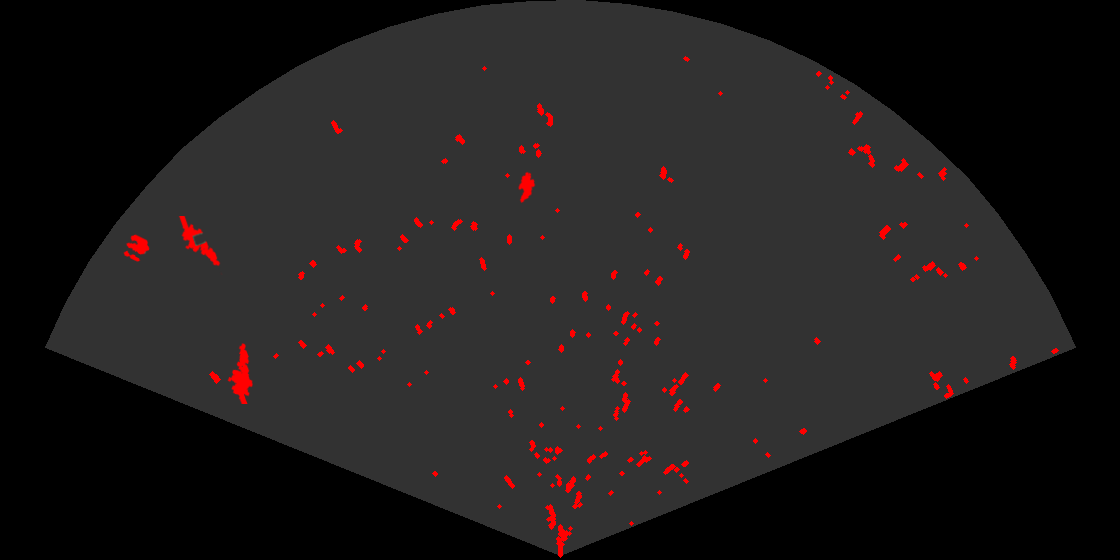AUV: (517, 170, 537, 205)
ball: (122, 233, 151, 263)
frogman: (177, 216, 223, 275), (226, 341, 254, 404)
